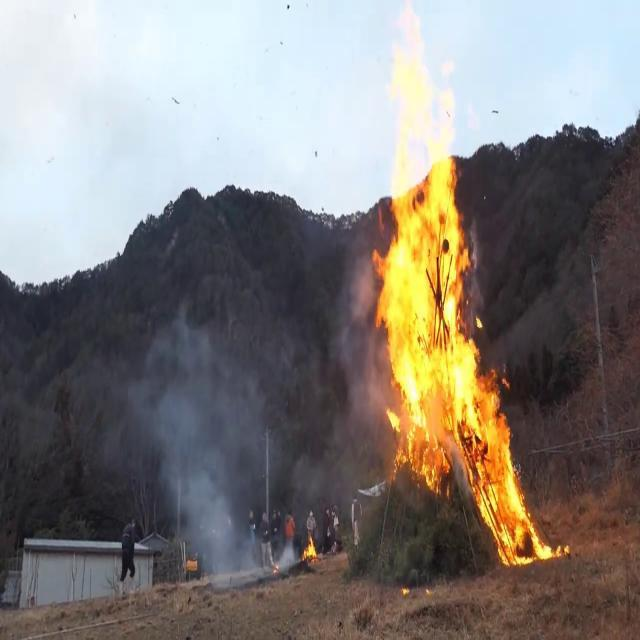Fire: (366, 10, 538, 572), (300, 530, 320, 568)
Smoke: (111, 270, 308, 575)
